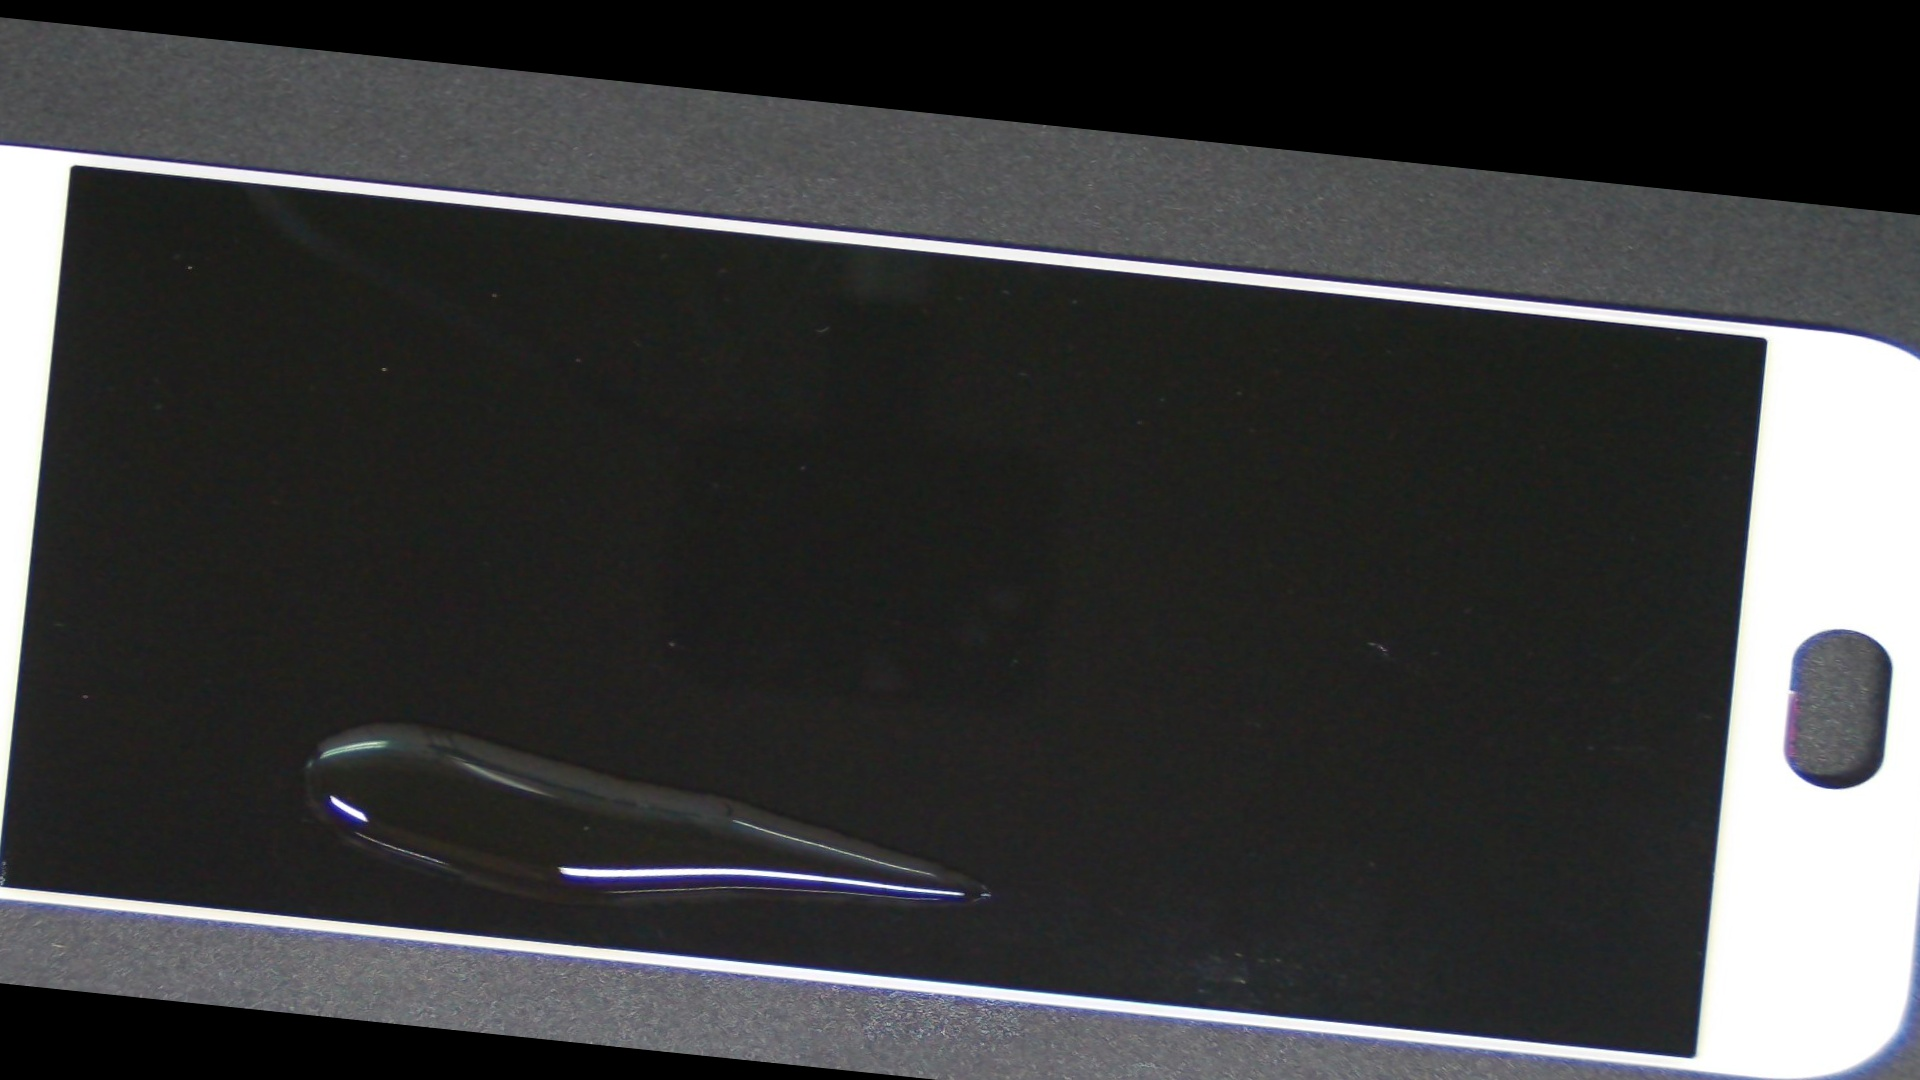oil: (36, 359, 789, 1058)
